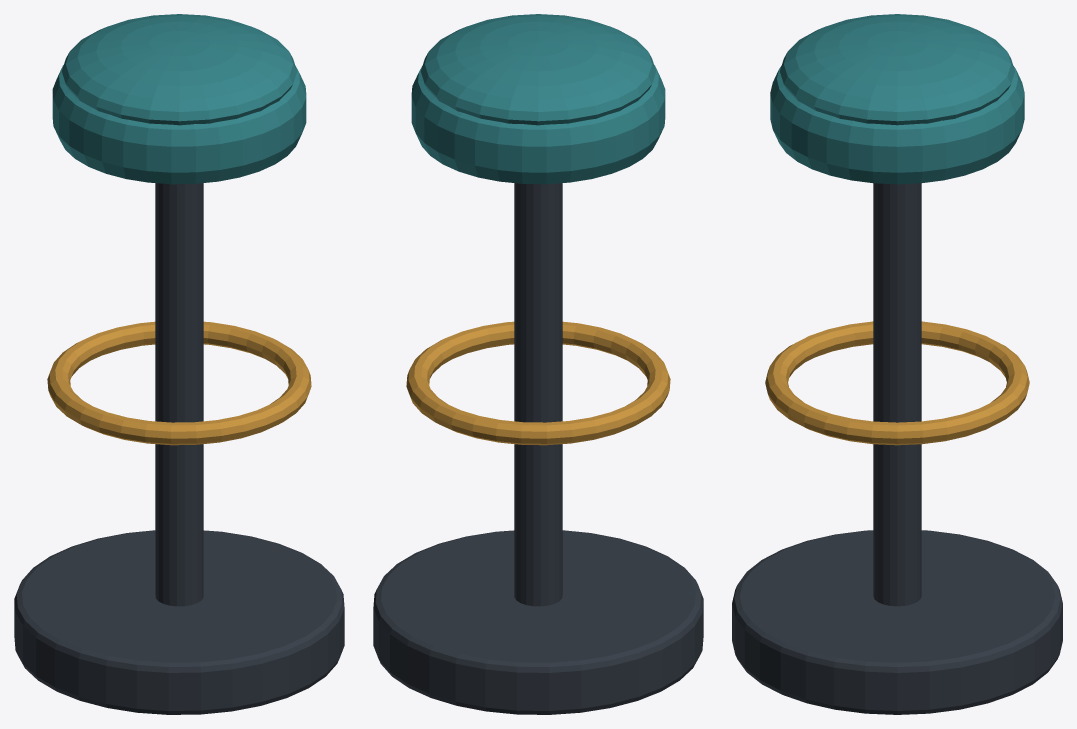
File: barstool-v1.glb
The picture shows the model from 3 angles, left to right: view 1: azimuth 30°, elevation 25°; view 2: azimuth 150°, elevation 25°; view 3: azimuth 270°, elevation 25°; orthographic projection.
Parts seen in each view (by area): view 1: weighted-base, soft-seat-top, central-column, seat, brass-footrest; view 2: weighted-base, soft-seat-top, central-column, seat, brass-footrest; view 3: weighted-base, soft-seat-top, central-column, seat, brass-footrest.
Boxes of the visible parts, left/top/right/bottom form: weighted-base: left=14, top=530, right=344, bottom=714; soft-seat-top: left=62, top=14, right=296, bottom=125; central-column: left=155, top=183, right=203, bottom=606; seat: left=52, top=65, right=306, bottom=184; brass-footrest: left=47, top=321, right=311, bottom=445; weighted-base: left=373, top=530, right=703, bottom=714; soft-seat-top: left=421, top=14, right=655, bottom=125; central-column: left=514, top=183, right=562, bottom=606; seat: left=411, top=65, right=665, bottom=184; brass-footrest: left=406, top=321, right=670, bottom=445; weighted-base: left=732, top=530, right=1062, bottom=714; soft-seat-top: left=780, top=14, right=1014, bottom=125; central-column: left=873, top=183, right=921, bottom=606; seat: left=770, top=66, right=1024, bottom=184; brass-footrest: left=765, top=321, right=1029, bottom=445.
Bounding box in the file's own units: 0.52 × 1.05 × 0.52.
